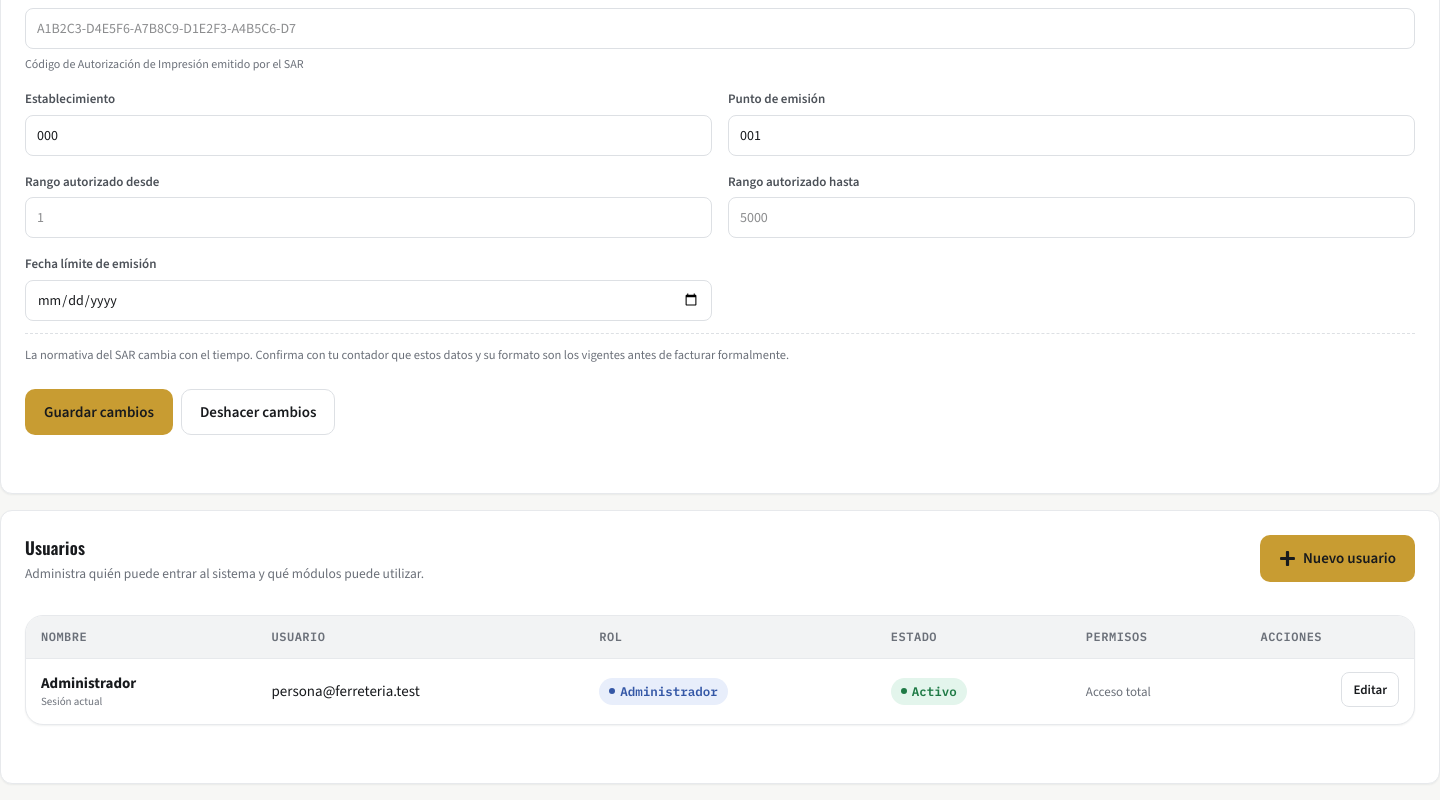
Scenario: Settings: inventario y ubicación operativa › ofrece asignar una ubicación operativa
The width and height of the screenshot is (1440, 800).
(page scrolled)
Click the button "Nuevo usuario". click: (1338, 558)
box: [1260,535,1415,582]
(page scrolled)
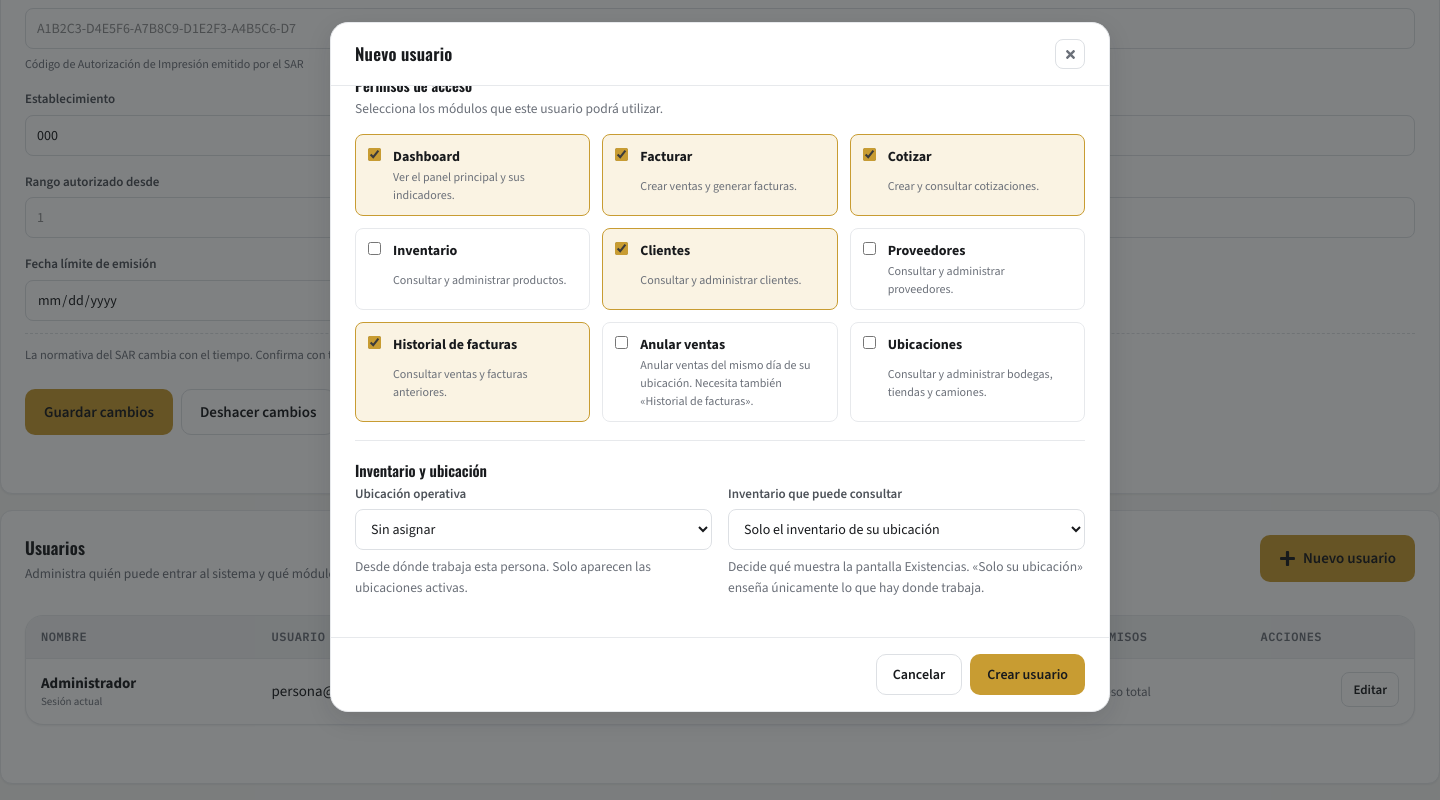
Result: the dropdown labelled "Ubicación operativa" is shown at [355,509,712,550]
